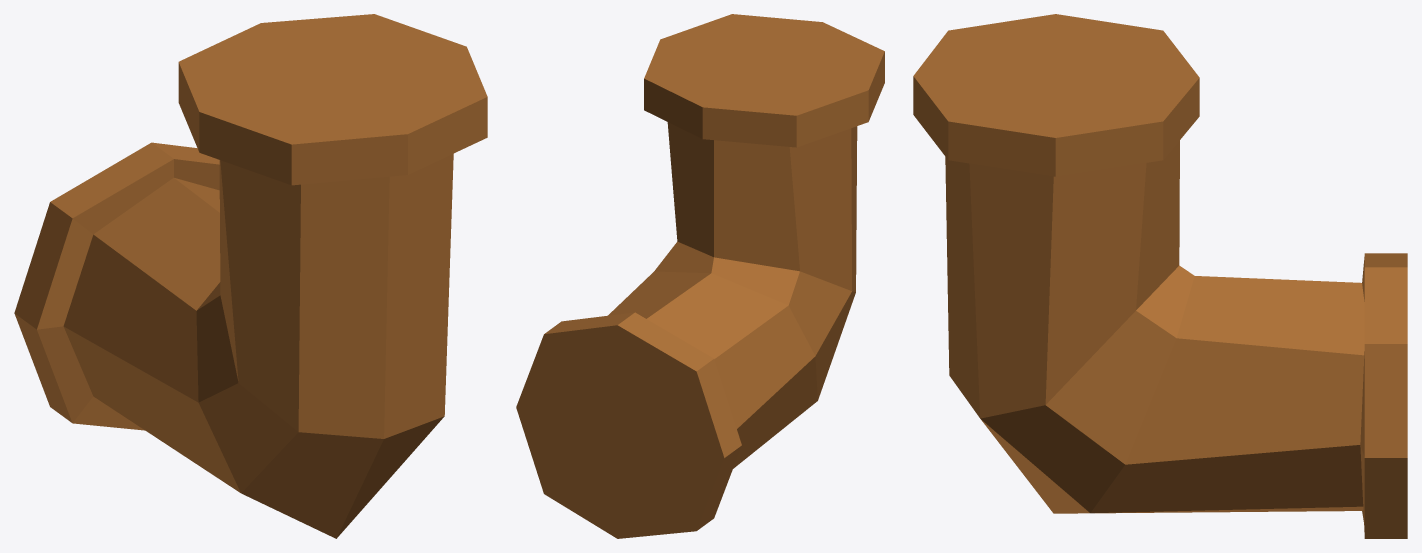
The model's file is PipeUV_L.fbx.
The picture shows the model from 3 angles, left to right: view 1: azimuth 30°, elevation 25°; view 2: azimuth 150°, elevation 25°; view 3: azimuth 270°, elevation 25°; orthographic projection. The views are drawn at different scales.
Parts seen in each view (by area): view 1: Pipe_L; view 2: Pipe_L; view 3: Pipe_L.
Boxes of the visible parts, bbox=[...] form: Pipe_L: bbox=[14, 14, 487, 538]; Pipe_L: bbox=[516, 14, 884, 538]; Pipe_L: bbox=[913, 14, 1407, 538].
Size of the model in its own units: 250 by 424 by 421.
